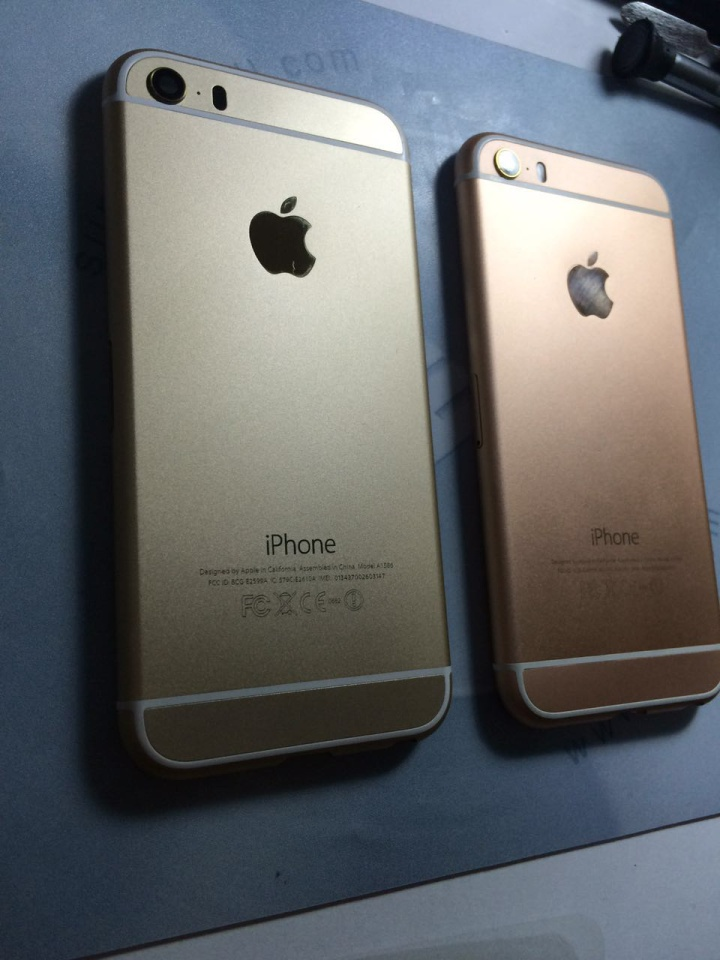apple: (184, 178, 360, 311), (521, 241, 641, 341)
